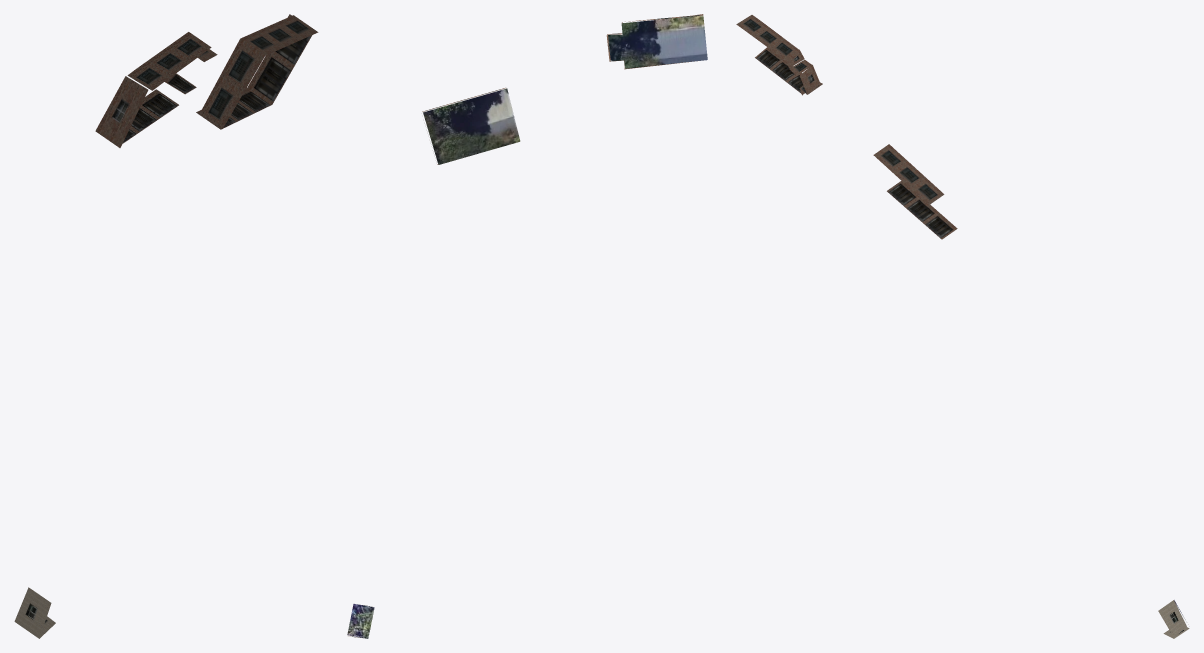
Rendered from tile_LOD4_r8_c11.glb.
The picture shows the model from 3 angles, left to right: view 1: azimuth 30°, elevation 25°; view 2: azimuth 150°, elevation 25°; view 3: azimuth 270°, elevation 25°; orthographic projection. The views are drawn at different scales.
Size of the model in its own units: 48.75 by 114 by 86.
Materials: 9 (9 with a texture image).
